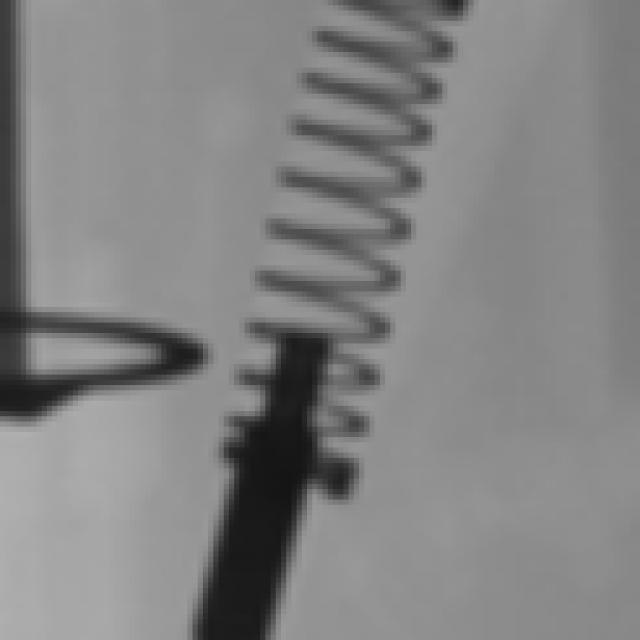GUN: (160, 332, 353, 636)
